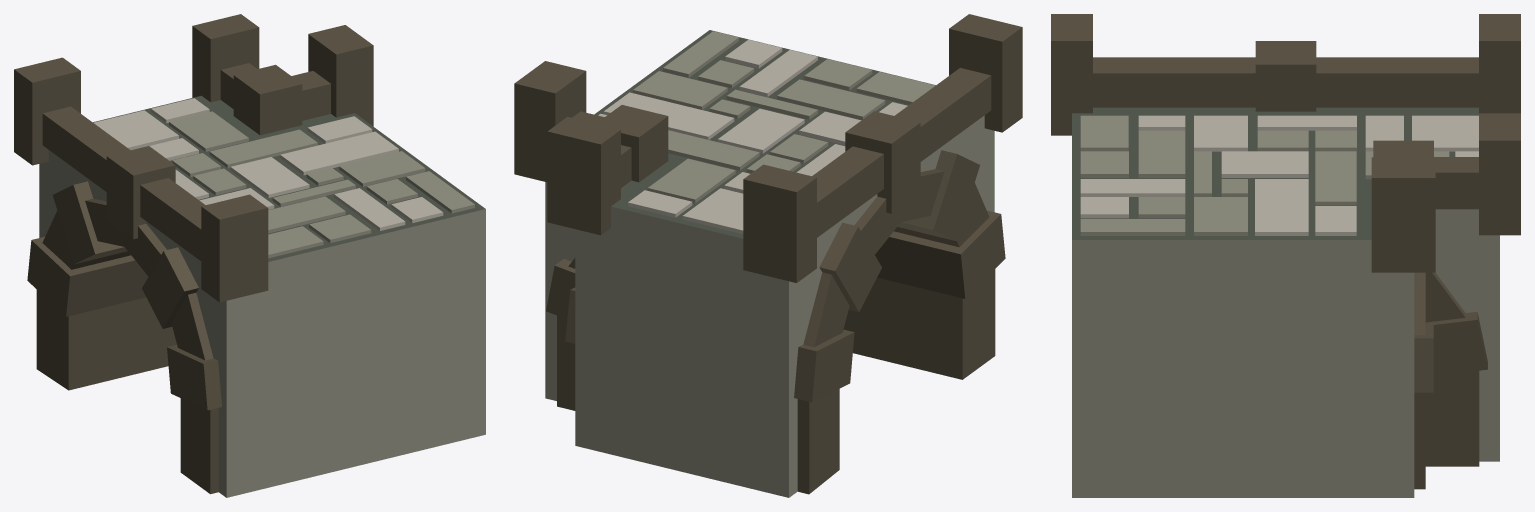
File: ThreeWayQuarterFilled.fbx
The picture shows the model from 3 angles, left to right: view 1: azimuth 30°, elevation 25°; view 2: azimuth 150°, elevation 25°; view 3: azimuth 270°, elevation 25°; orthographic projection. The views are drawn at different scales.
Parts seen in each view (by area): view 1: Stone Bridge - Three-Way Quarter Filled; view 2: Stone Bridge - Three-Way Quarter Filled; view 3: Stone Bridge - Three-Way Quarter Filled.
Boxes of the visible parts, x1,y1,x2,y2 form: Stone Bridge - Three-Way Quarter Filled: [14, 14, 485, 497]; Stone Bridge - Three-Way Quarter Filled: [514, 14, 1022, 497]; Stone Bridge - Three-Way Quarter Filled: [1051, 14, 1520, 497].
Size of the model in its own units: 90.87 by 85.16 by 110.
